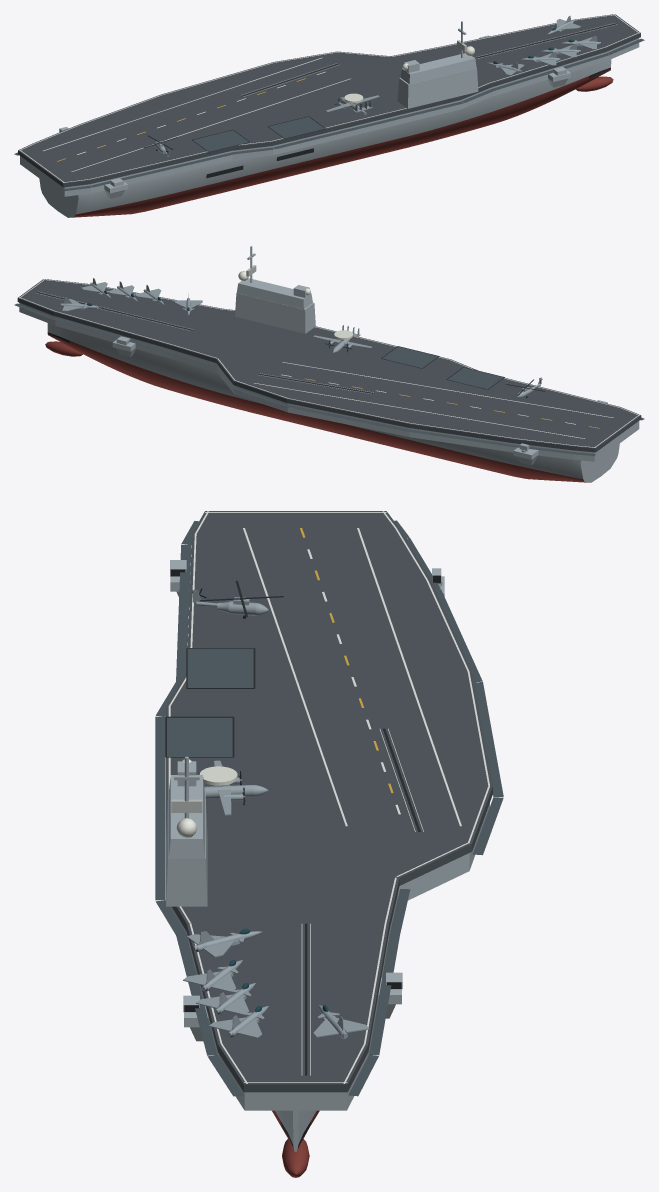
The model's file is fra_cvn_charles_de_gaulle.glb.
The picture shows the model from 3 angles, top to bottom: view 1: azimuth 30°, elevation 25°; view 2: azimuth 150°, elevation 25°; view 3: azimuth 270°, elevation 25°; orthographic projection. The views are drawn at different scales.
Visible parts, largest first — view 1: flight_deck, naval_paint, antifouling, deck_non_skid, marking_white, airframe, rubber; view 2: flight_deck, naval_paint, antifouling, deck_non_skid, marking_white, airframe, rubber; view 3: flight_deck, deck_non_skid, naval_paint, airframe, marking_white, rubber, radome, antifouling.
Boxes of the visible parts, x1=… form: flight_deck: x1=18, y1=14, x2=640, y2=187; naval_paint: x1=20, y1=21, x2=639, y2=217; antifouling: x1=71, y1=68, x2=613, y2=217; deck_non_skid: x1=14, y1=38, x2=644, y2=190; marking_white: x1=19, y1=14, x2=639, y2=182; airframe: x1=154, y1=15, x2=600, y2=156; rubber: x1=144, y1=23, x2=616, y2=178; flight_deck: x1=17, y1=279, x2=641, y2=452; naval_paint: x1=19, y1=246, x2=639, y2=482; antifouling: x1=45, y1=333, x2=590, y2=482; deck_non_skid: x1=14, y1=303, x2=644, y2=455; marking_white: x1=19, y1=279, x2=639, y2=447; airframe: x1=60, y1=278, x2=541, y2=398; rubber: x1=37, y1=292, x2=544, y2=397; flight_deck: x1=166, y1=511, x2=492, y2=1092; deck_non_skid: x1=155, y1=520, x2=503, y2=1096; naval_paint: x1=166, y1=560, x2=489, y2=1151; airframe: x1=183, y1=590, x2=369, y2=1038; marking_white: x1=168, y1=511, x2=489, y2=1083; rubber: x1=165, y1=569, x2=440, y2=1075; radome: x1=176, y1=759, x2=237, y2=838; antifouling: x1=272, y1=1110, x2=319, y2=1177.
Bounding box in the file's own units: 10 × 2.11 × 2.56.
